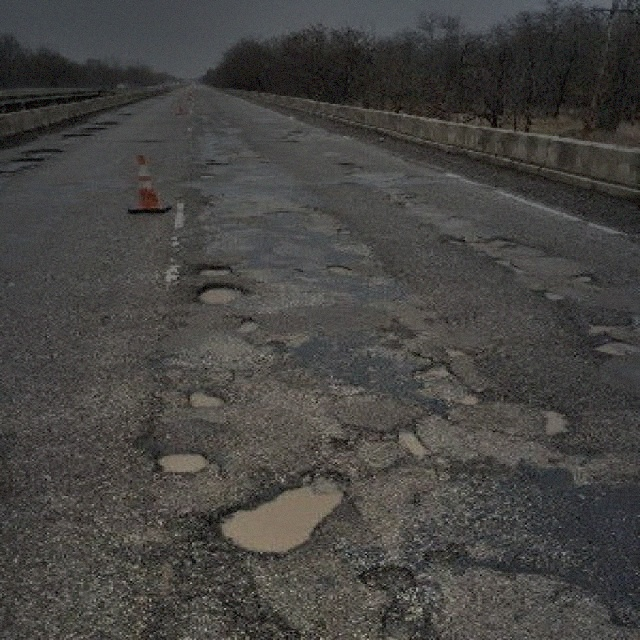pothole: (211, 467, 348, 555), (354, 564, 429, 638), (443, 234, 538, 258), (152, 448, 211, 475), (192, 282, 247, 307), (395, 426, 431, 459), (538, 406, 572, 438), (184, 387, 226, 408), (589, 338, 638, 353), (412, 360, 452, 378), (194, 259, 233, 277), (322, 261, 354, 275), (570, 270, 597, 286), (454, 389, 480, 405), (584, 322, 623, 332), (538, 288, 565, 302)
